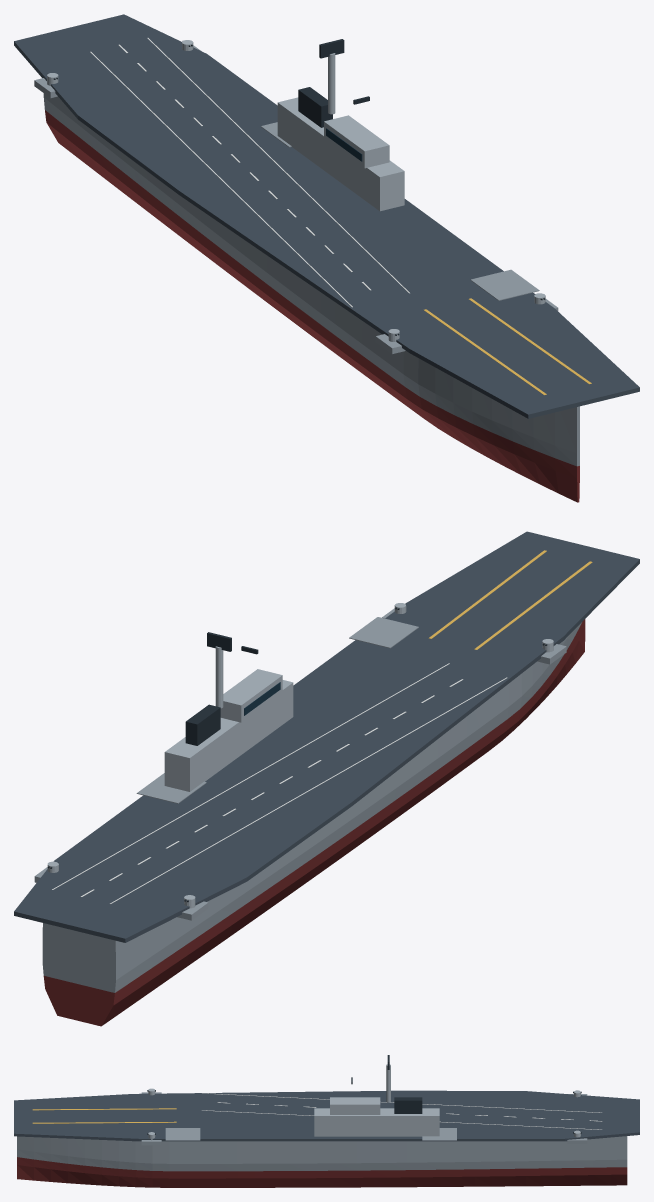
Rendered from ran_cvl_melbourne_1959.obj.
The picture shows the model from 3 angles, top to bottom: view 1: azimuth 30°, elevation 25°; view 2: azimuth 150°, elevation 25°; view 3: azimuth 270°, elevation 25°; orthographic projection. The views are drawn at different scales.
Parts seen in each view (by area): view 1: Deck, Hull, UnderwaterHull, Island, Bridge, Elevator_1, Funnel; view 2: Deck, Hull, UnderwaterHull, Island, Bridge, Elevator_1, Funnel, Elevator_2; view 3: Deck, Hull, UnderwaterHull, Island, Bridge, Funnel, Elevator_1, LandingEdge_-1, Elevator_2, LandingEdge_1, Catapult_1, Catapult_2.
Boxes of the visible parts, x1,y1,x2,y2 form: Deck: (14, 14, 639, 418); Hull: (43, 93, 579, 466); UnderwaterHull: (45, 110, 579, 502); Island: (277, 97, 404, 211); Bridge: (324, 115, 389, 168); Elevator_1: (471, 269, 539, 300); Funnel: (298, 87, 332, 127); Deck: (14, 531, 639, 942); Hull: (42, 622, 581, 992); UnderwaterHull: (43, 619, 585, 1026); Island: (164, 680, 293, 791); Bridge: (220, 669, 282, 722); Elevator_1: (349, 617, 418, 648); Funnel: (185, 704, 220, 745); Elevator_2: (136, 773, 206, 803); Deck: (14, 1090, 639, 1141); Hull: (17, 1136, 627, 1171); UnderwaterHull: (17, 1157, 627, 1187); Island: (314, 1108, 439, 1136); Bridge: (330, 1097, 380, 1114); Funnel: (394, 1097, 422, 1113); Elevator_1: (165, 1128, 200, 1140); LandingEdge_-1: (202, 1093, 601, 1112); Elevator_2: (422, 1128, 456, 1140); LandingEdge_1: (202, 1110, 601, 1129); Catapult_1: (32, 1121, 176, 1123); Catapult_2: (32, 1108, 176, 1110).
Bounding box in the file's own units: 0.5989 × 0.7723 × 3.16.
